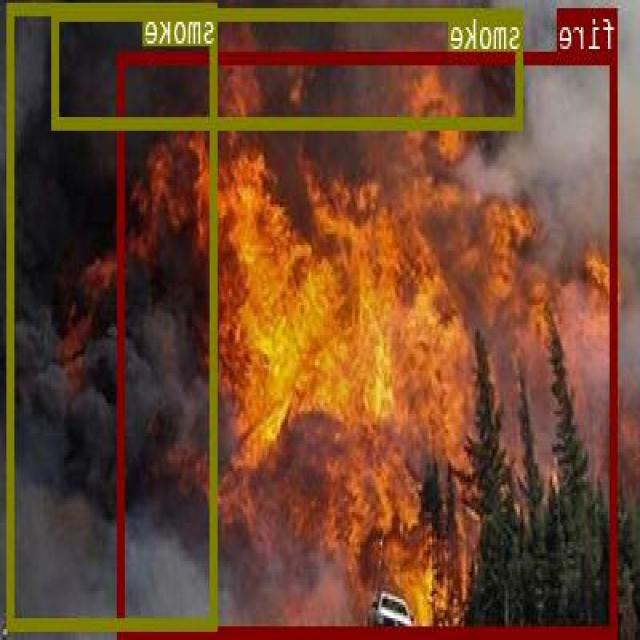fire: (120, 50, 618, 635)
smoke: (10, 2, 218, 626), (54, 6, 524, 126)
